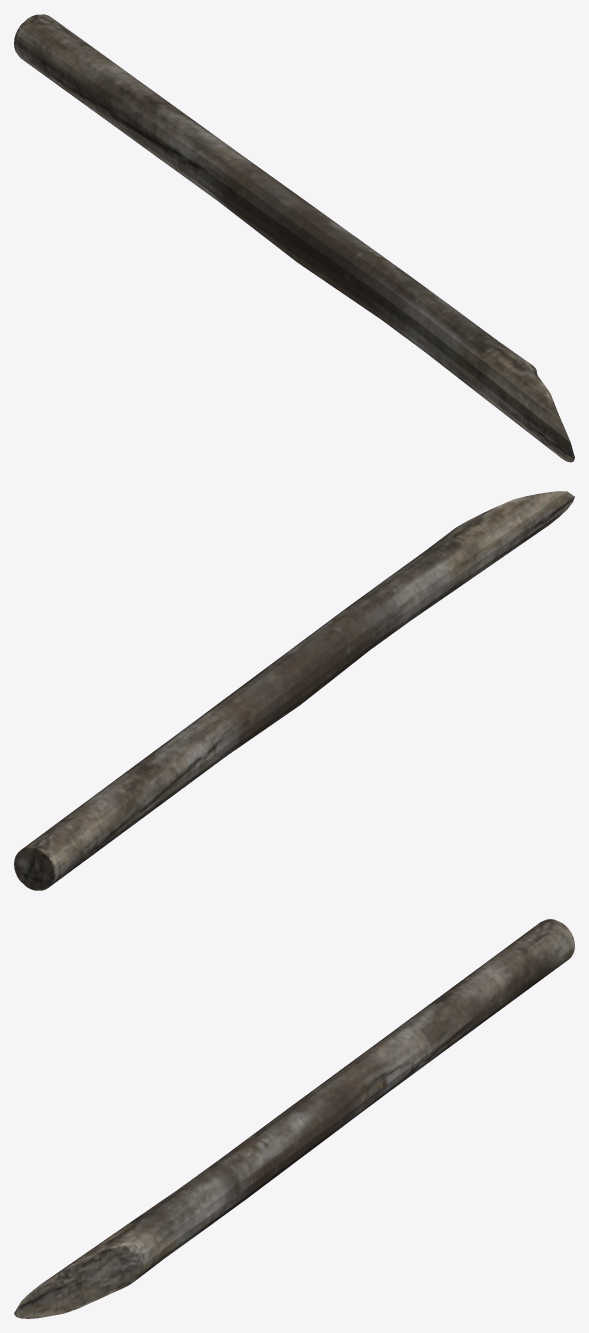
File: SM_Twigs_6.fbx
3 renders of one model, top to bottom at view 1: azimuth 30°, elevation 25°; view 2: azimuth 150°, elevation 25°; view 3: azimuth 330°, elevation 25°, orthographic. The views are drawn at different scales.
Visible parts, largest first — view 1: SM_Twigs_6_LOD0; view 2: SM_Twigs_6_LOD0; view 3: SM_Twigs_6_LOD0.
Part boxes in pixels (x1=…): SM_Twigs_6_LOD0: x1=14, y1=14, x2=574, y2=462; SM_Twigs_6_LOD0: x1=14, y1=491, x2=574, y2=890; SM_Twigs_6_LOD0: x1=14, y1=919, x2=574, y2=1318.
Bounding box in the file's own units: 1.63 × 30.9 × 1.56.
